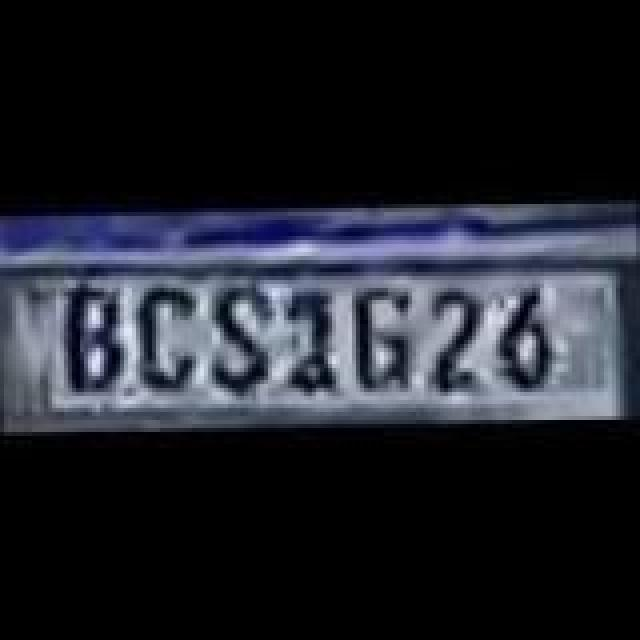1: (290, 282, 334, 394)
2: (432, 288, 488, 400)
6: (498, 282, 558, 390)
B: (66, 284, 126, 396)
C: (136, 290, 200, 394)
G: (352, 284, 416, 396)
S: (208, 280, 272, 392)
